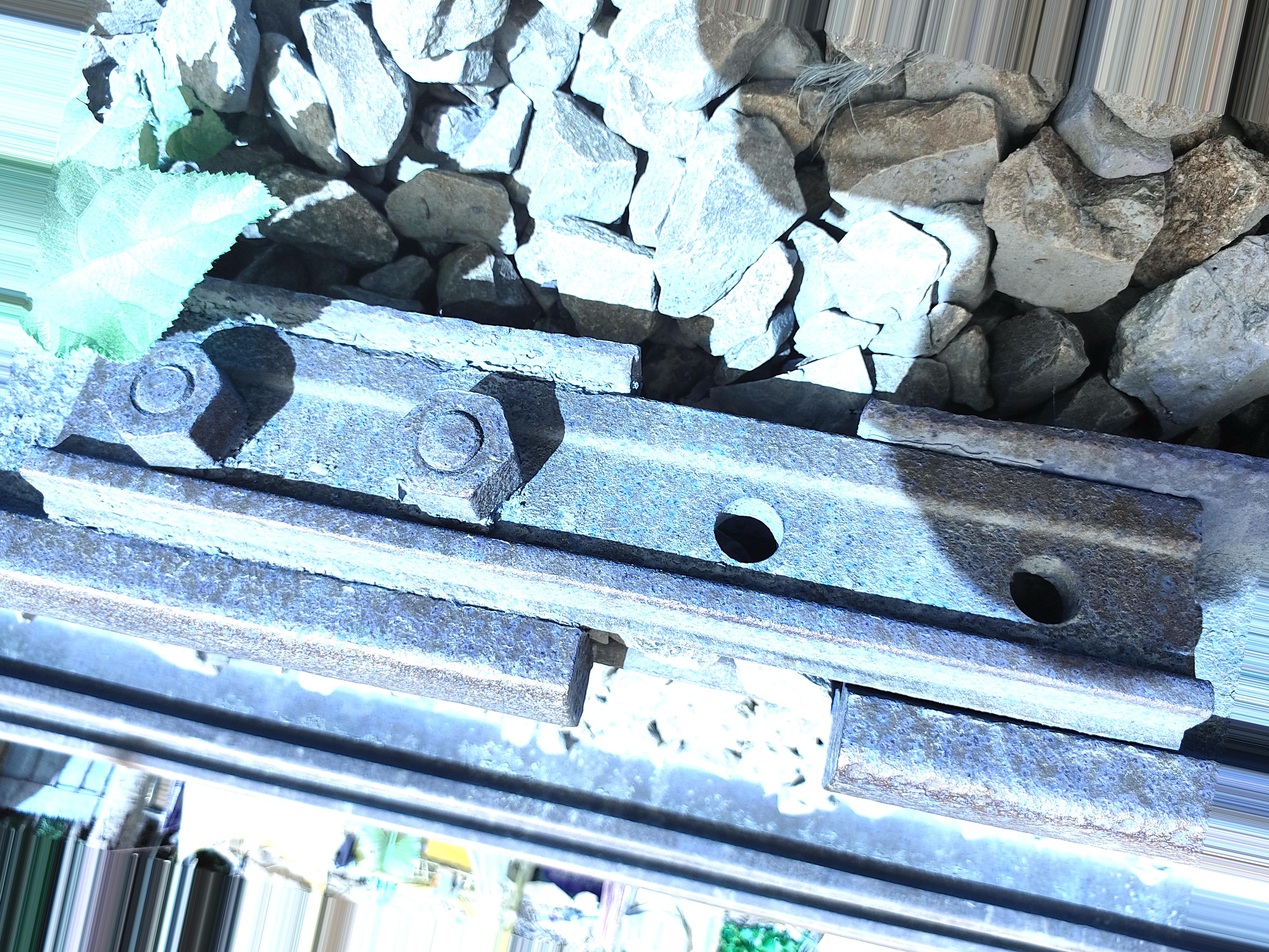tracks_fault: (698, 432, 1103, 689)
